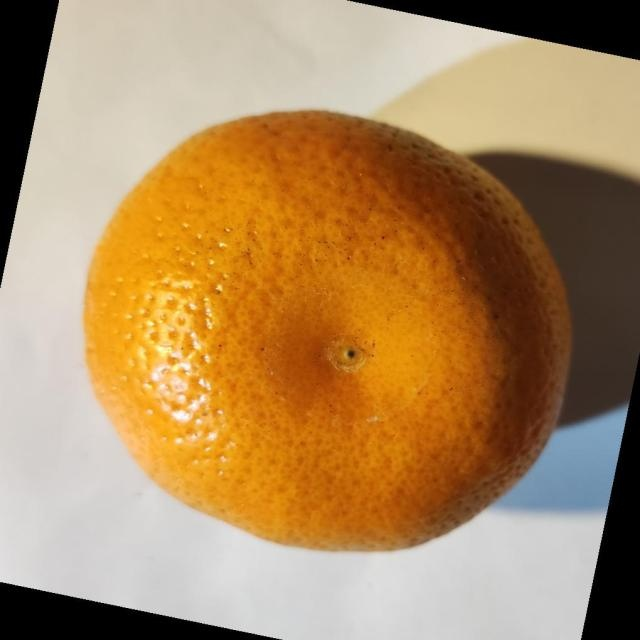agrume: (82, 107, 574, 553)
